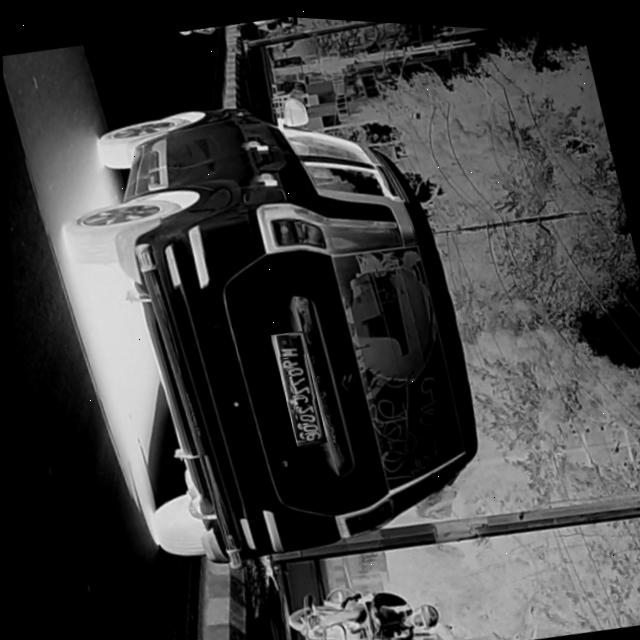0: (293, 409, 313, 422), (283, 362, 300, 374), (298, 419, 314, 430)
2: (291, 401, 310, 413)
7: (284, 372, 303, 384)
9: (299, 428, 317, 440)
C: (288, 390, 308, 404)
IND: (276, 333, 295, 347)
Indian_registered: (270, 331, 316, 441)
M: (276, 342, 296, 356)
P: (276, 351, 298, 366)
Z: (286, 381, 306, 393)
